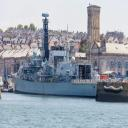Fragata: (11, 12, 103, 97)
